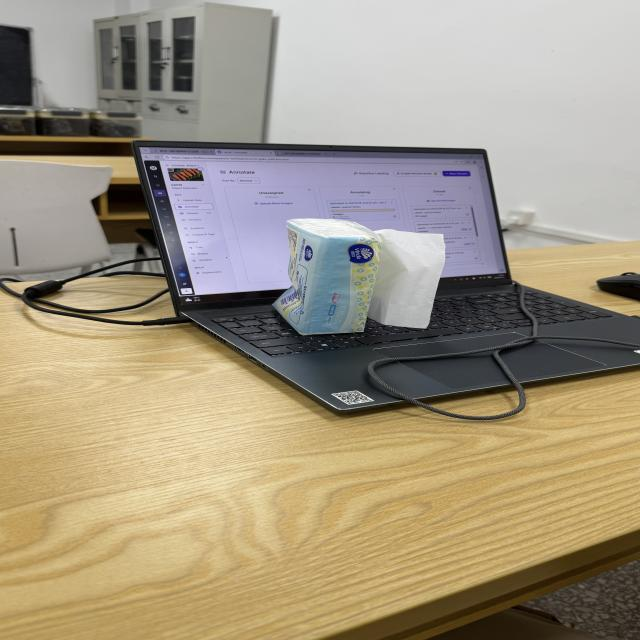tissue: (274, 219, 379, 334), (369, 230, 445, 328)
